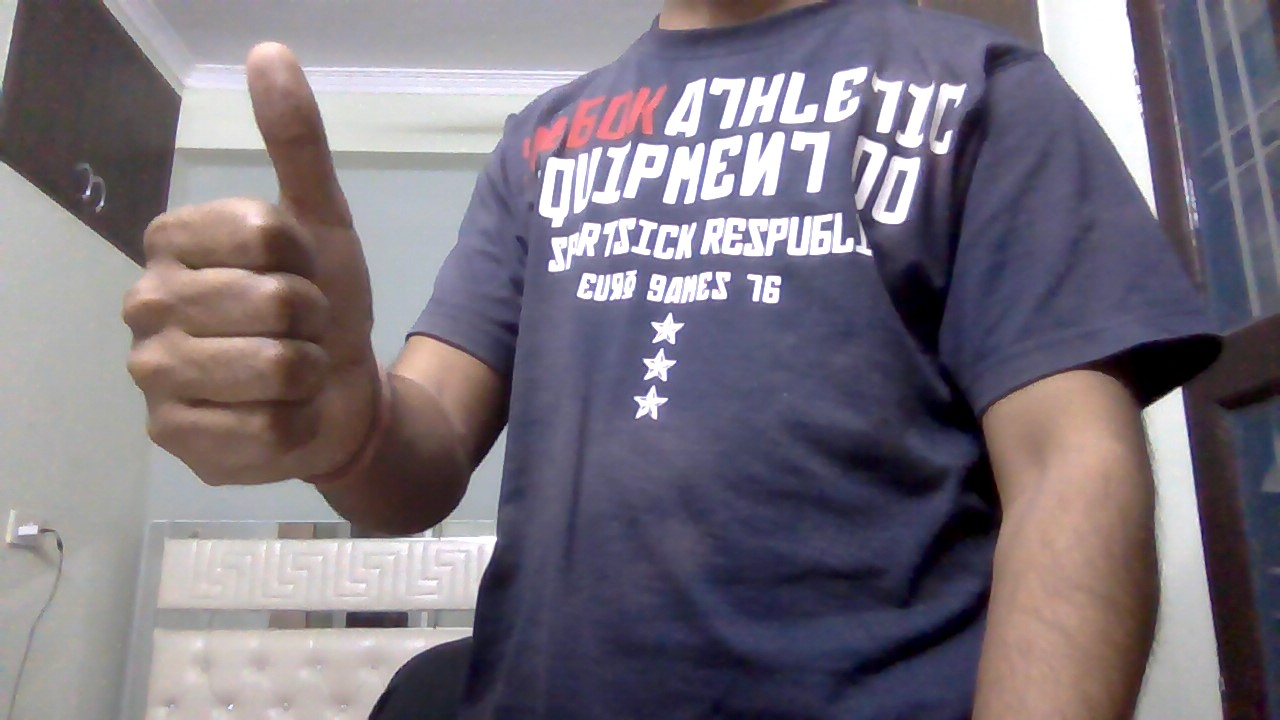Save: (105, 31, 401, 508)
